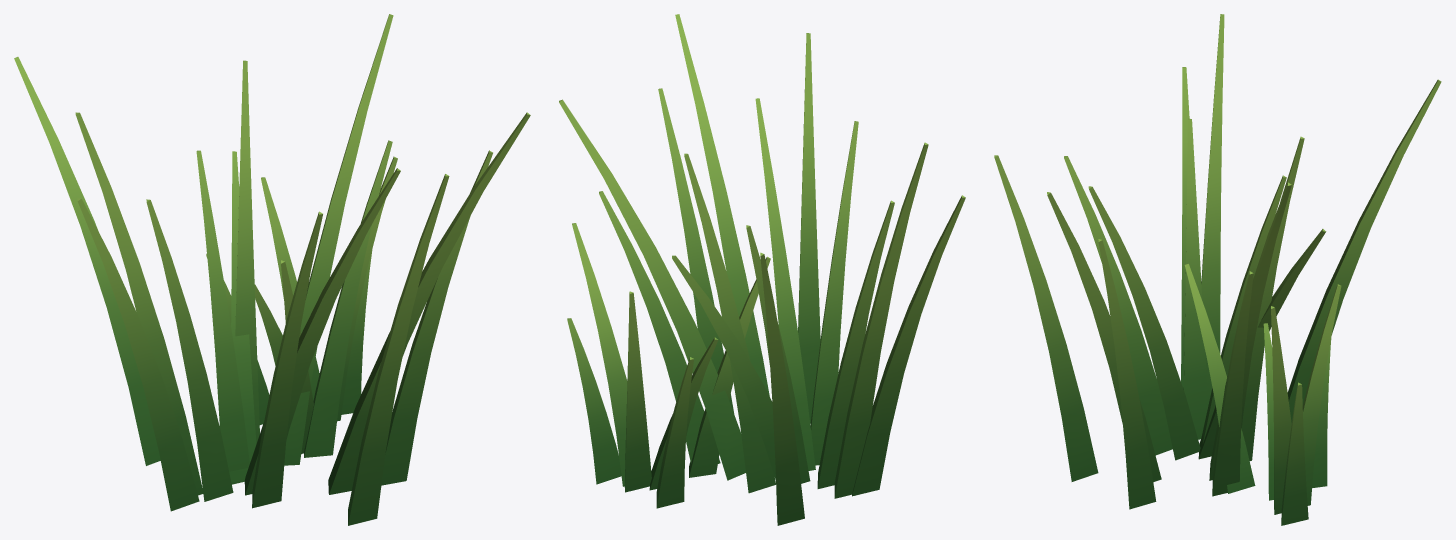
The model's file is GrassTuft.fbx.
The picture shows the model from 3 angles, left to right: view 1: azimuth 30°, elevation 25°; view 2: azimuth 150°, elevation 25°; view 3: azimuth 270°, elevation 25°; orthographic projection. The views are drawn at different scales.
Visible parts, largest first — view 1: GrassTuft; view 2: GrassTuft; view 3: GrassTuft.
Boxes of the visible parts, <box> form: GrassTuft: <box>14,14,530,525</box>; GrassTuft: <box>559,14,965,525</box>; GrassTuft: <box>994,14,1441,525</box>.
Size of the model in its own units: 0.3583 by 0.3603 by 0.3949.
